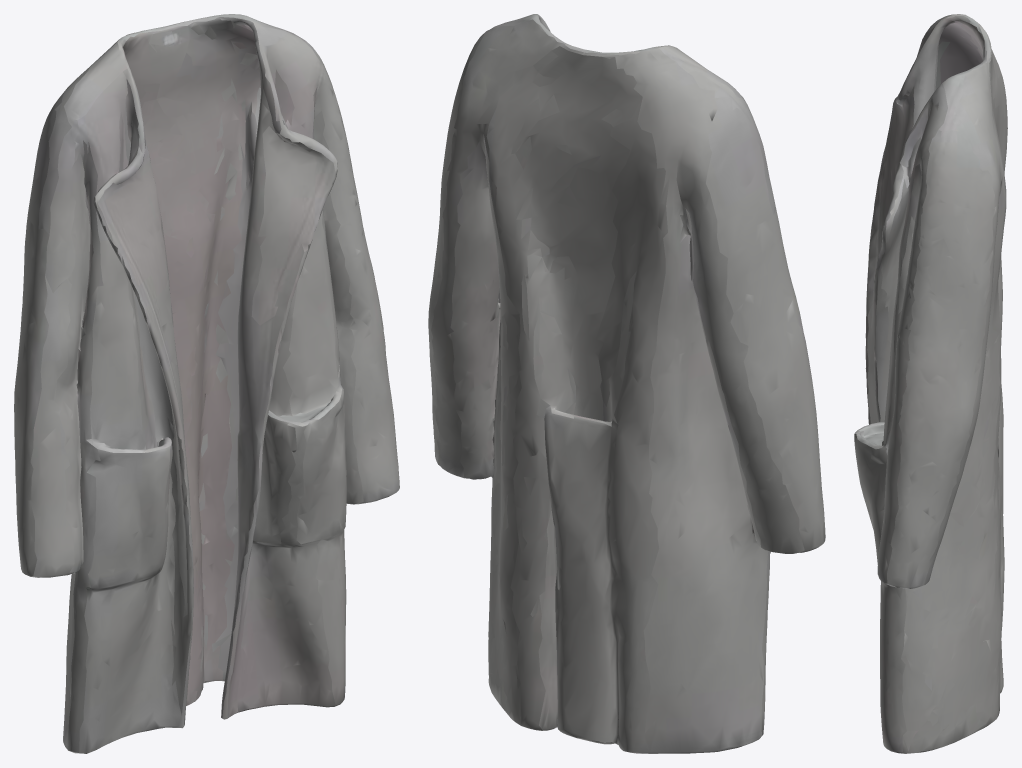
The model's file is casacos-ultra-simple.glb.
3 renders of one model, left to right at view 1: azimuth 30°, elevation 25°; view 2: azimuth 150°, elevation 25°; view 3: azimuth 270°, elevation 25°, orthographic. The views are drawn at different scales.
Visible parts, largest first — view 1: textured_mesh; view 2: textured_mesh; view 3: textured_mesh.
Part boxes in pixels (box(x1,y1,x2,y2)): textured_mesh: box(14, 14, 399, 753); textured_mesh: box(428, 14, 825, 753); textured_mesh: box(854, 14, 1007, 753).
Bounding box in the file's own units: 1.14 × 1.99 × 0.4258.
Materials: 1 (1 with a texture image).
